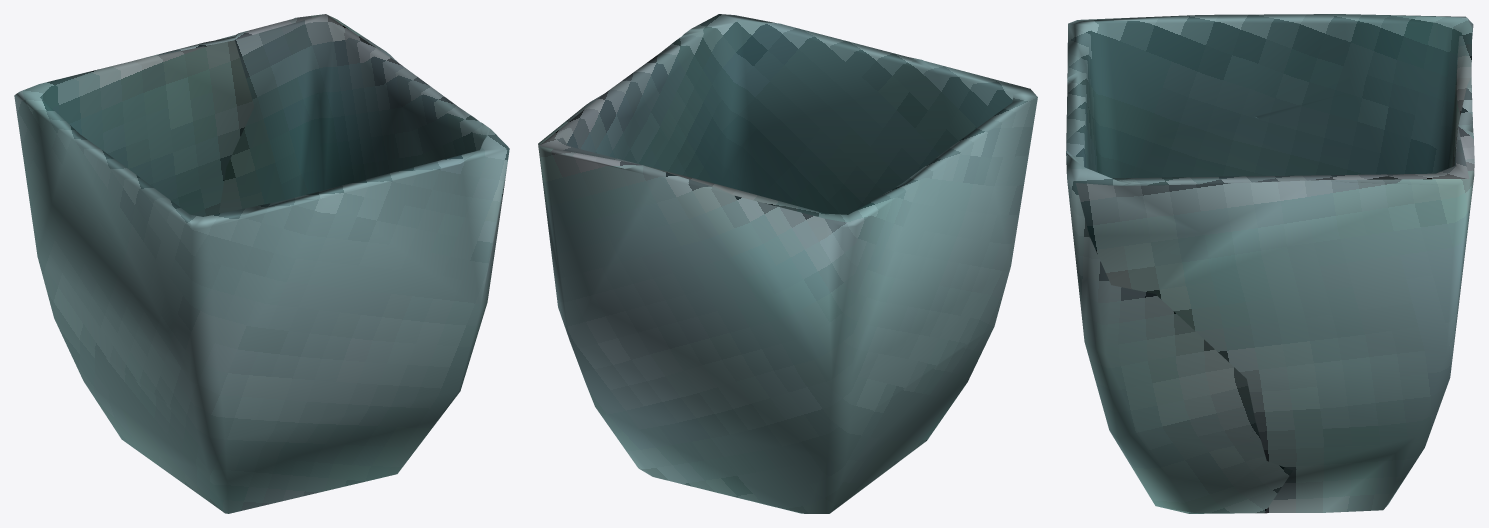
File: Ecoforms_Plant_Container_QP_Turquoise-low.glb
The picture shows the model from 3 angles, left to right: view 1: azimuth 30°, elevation 25°; view 2: azimuth 150°, elevation 25°; view 3: azimuth 270°, elevation 25°; orthographic projection. The views are drawn at different scales.
Visible parts, largest first — view 1: Ecoforms_Plant_Container_QP_Turquoise; view 2: Ecoforms_Plant_Container_QP_Turquoise; view 3: Ecoforms_Plant_Container_QP_Turquoise.
Part boxes in pixels (box(x1,y1,x2,y2)): Ecoforms_Plant_Container_QP_Turquoise: box(14, 14, 509, 513); Ecoforms_Plant_Container_QP_Turquoise: box(538, 14, 1037, 513); Ecoforms_Plant_Container_QP_Turquoise: box(1066, 14, 1474, 513).
Bounding box in the file's own units: 0.0873 × 0.0893 × 0.0878.
1 material, 1 textured.
